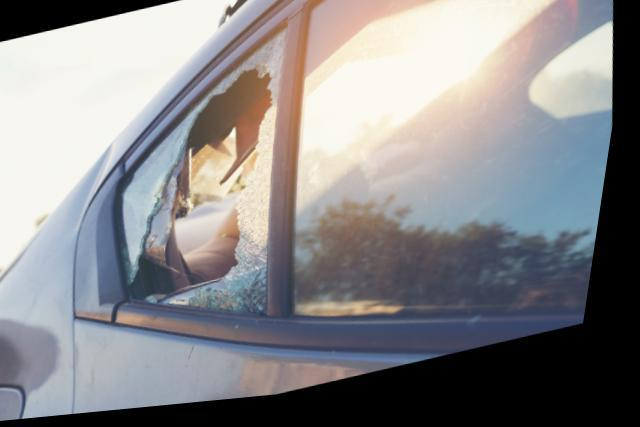glass shatter: (123, 27, 290, 321)
